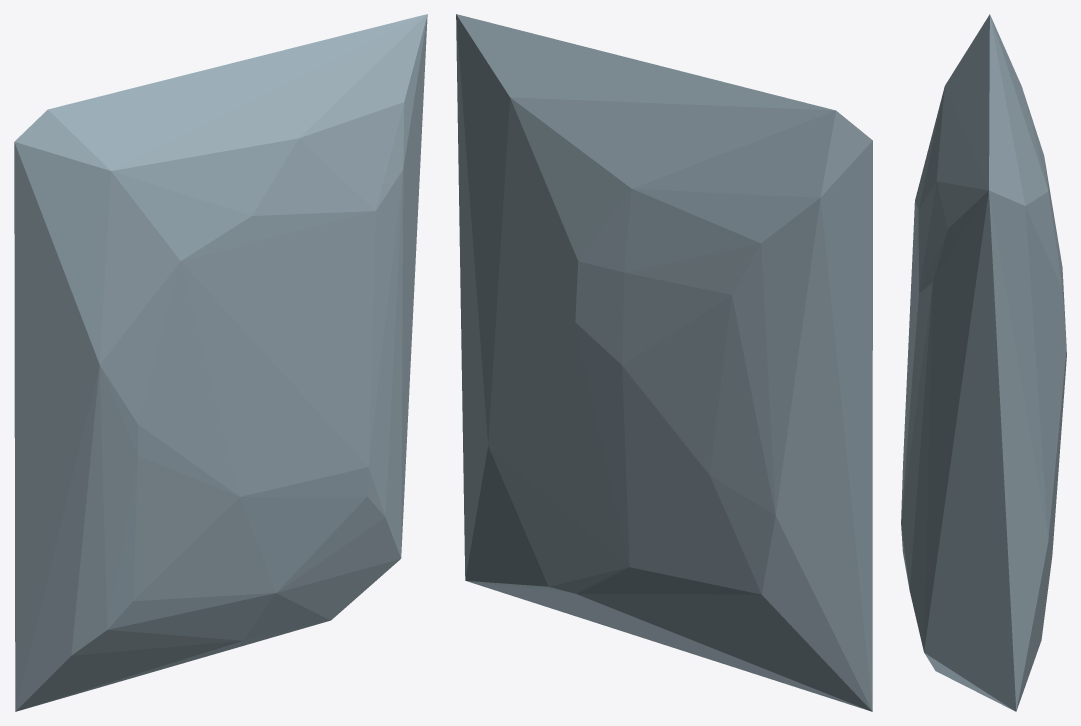
The model's file is food_processed_chips_i01.glb.
3 views of the same model, side by side, from view 1: azimuth 30°, elevation 25°; view 2: azimuth 150°, elevation 25°; view 3: azimuth 270°, elevation 25° (orthographic). The views are drawn at different scales.
Visible parts, largest first — view 1: geometry_0; view 2: geometry_0; view 3: geometry_0.
Boxes of the visible parts, bbox=[...] form: geometry_0: bbox=[14, 14, 427, 711]; geometry_0: bbox=[456, 14, 872, 711]; geometry_0: bbox=[901, 14, 1066, 711].
Size of the model in its own units: 0.3383 by 0.4648 by 0.1209.
